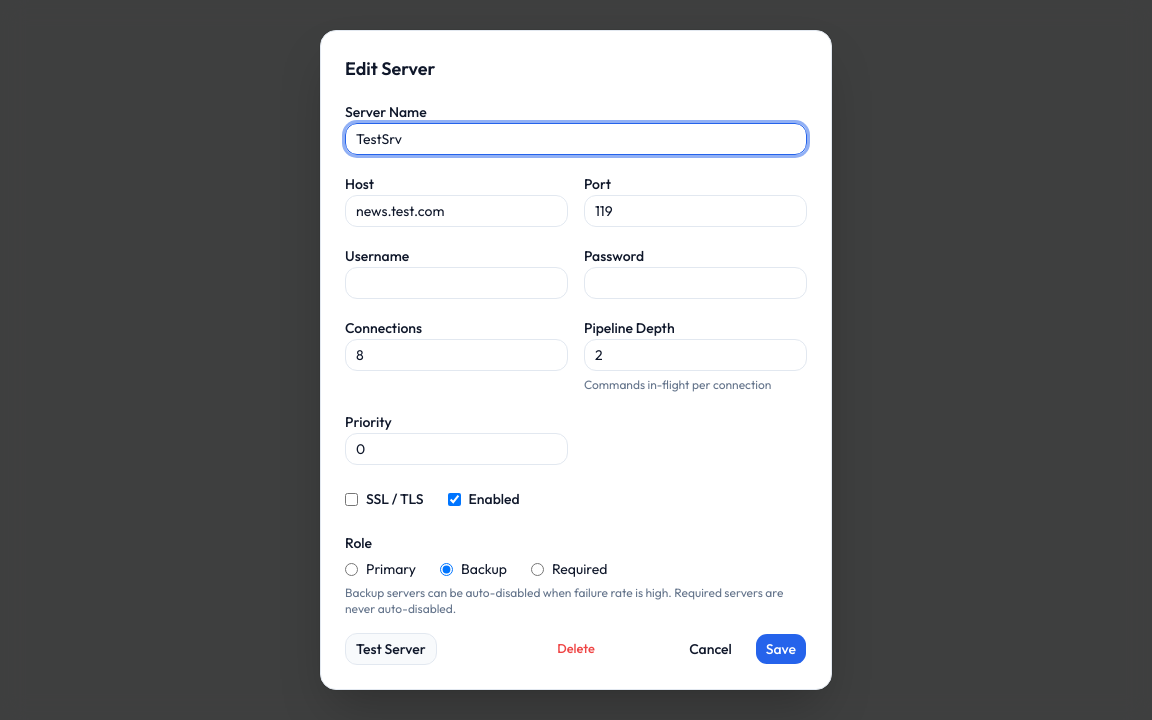
Test: ServerEditDialog › dismisses delete confirmation when No is clicked
Click the button "Delete" at coordinates (576, 649), box [546, 635, 606, 663]
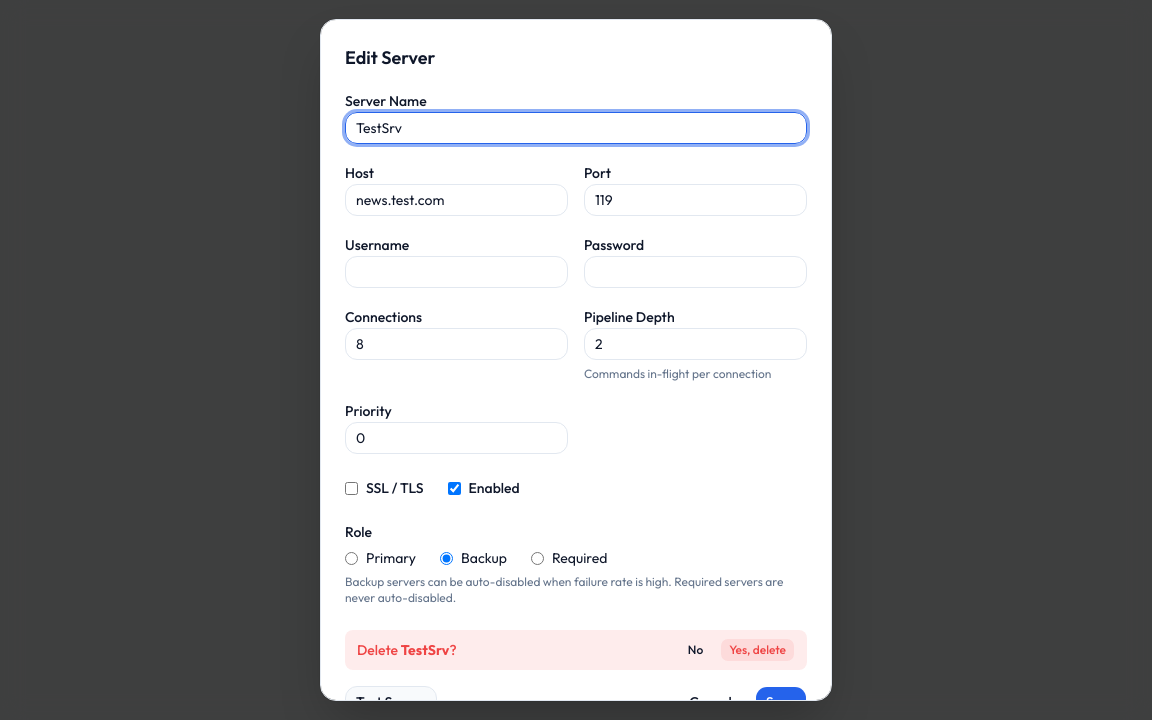
Result: the button "Yes, delete" is shown at [720, 638, 795, 662]
Click the button "No" at coordinates (696, 650), box [679, 638, 712, 662]
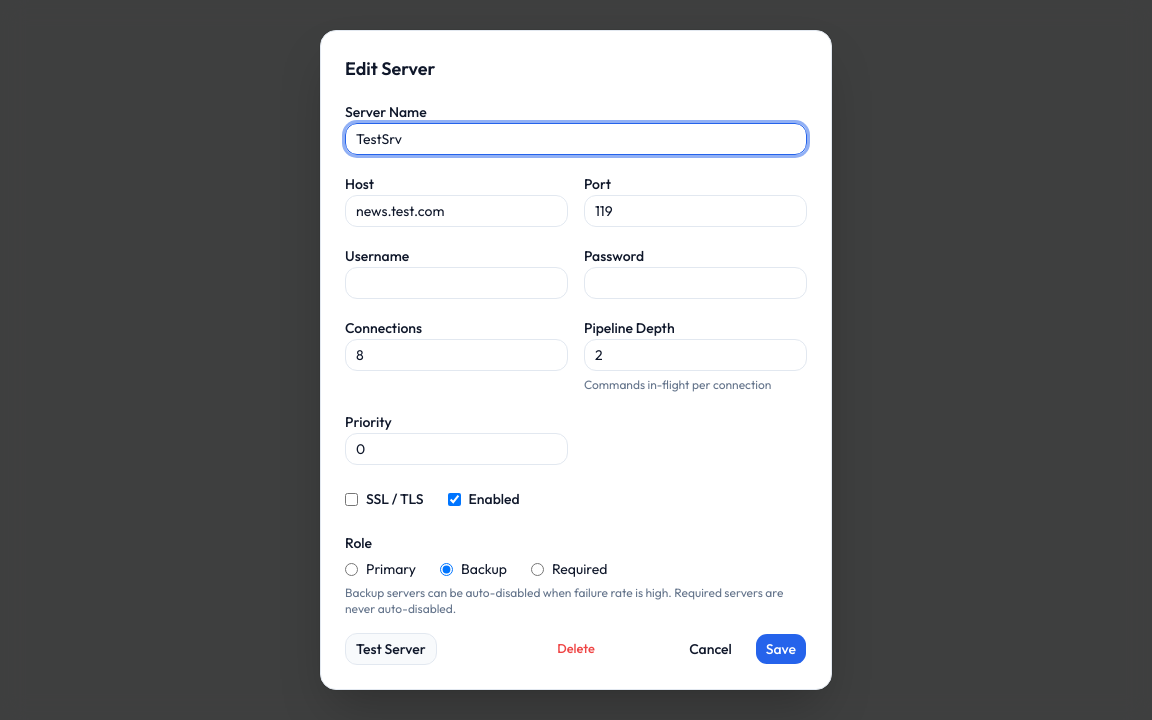
Result: the button "Yes, delete" is gone
Result: the button "Delete" is shown at [546, 635, 606, 663]
